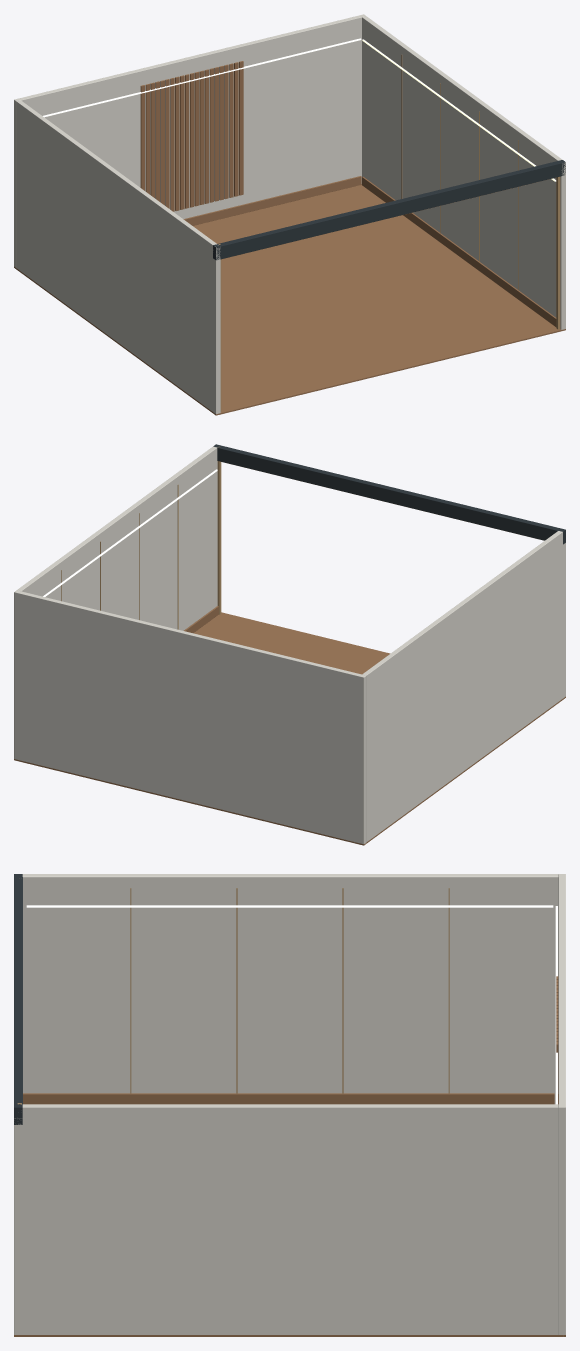
Rendered from booth-20x20.glb.
3 views of the same model, one above another, from view 1: azimuth 30°, elevation 25°; view 2: azimuth 150°, elevation 25°; view 3: azimuth 270°, elevation 25° (orthographic). The views are drawn at different scales.
Visible parts, largest first — view 1: inset_oak_floor, mesh_side_-1, mesh_rear, mesh_side_1, mesh_branding, oak_side_plinth_1, rear_oak_plinth, oak_accent_slat_12, oak_accent_slat_11, bronze_entry_post_1, rear_light_wash, oak_accent_slat_10 (+19 smaller); view 2: mesh_rear, mesh_side_-1, mesh_side_1, inset_oak_floor, mesh_branding, bronze_entry_post_1, warm_side_wash_1; view 3: mesh_side_1, mesh_side_-1, oak_side_plinth_-1, mesh_rear, mesh_branding, warm_side_wash_-1, inset_oak_floor.
Part boxes in pixels (left/top/right/bottom): inset_oak_floor: left=14, top=184, right=565, bottom=415; mesh_side_-1: left=16, top=100, right=220, bottom=414; mesh_rear: left=14, top=14, right=365, bottom=267; mesh_side_1: left=362, top=16, right=565, bottom=329; mesh_branding: left=213, top=160, right=565, bottom=260; oak_side_plinth_1: left=362, top=176, right=556, bottom=326; rear_oak_plinth: left=183, top=176, right=361, bottom=225; oak_accent_slat_12: left=199, top=70, right=204, bottom=204; oak_accent_slat_11: left=194, top=71, right=199, bottom=206; bronze_entry_post_1: left=556, top=176, right=560, bottom=329; rear_light_wash: left=43, top=38, right=361, bottom=117; oak_accent_slat_10: left=190, top=73, right=194, bottom=207; mesh_rear: left=14, top=590, right=366, bottom=844; mesh_side_-1: left=362, top=531, right=565, bottom=841; mesh_side_1: left=17, top=446, right=217, bottom=630; inset_oak_floor: left=14, top=612, right=565, bottom=845; mesh_branding: left=213, top=444, right=565, bottom=544; bronze_entry_post_1: left=217, top=446, right=221, bottom=614; warm_side_wash_1: left=43, top=469, right=217, bottom=596; mesh_side_1: left=14, top=1104, right=558, bottom=1334; mesh_side_-1: left=22, top=874, right=558, bottom=1104; oak_side_plinth_-1: left=23, top=1093, right=554, bottom=1104; mesh_rear: left=558, top=874, right=565, bottom=1334; mesh_branding: left=14, top=874, right=22, bottom=1124; warm_side_wash_-1: left=26, top=905, right=553, bottom=907; inset_oak_floor: left=14, top=1335, right=565, bottom=1336.
Bounding box in the file's own units: 6.1 × 2.8 × 6.1.
